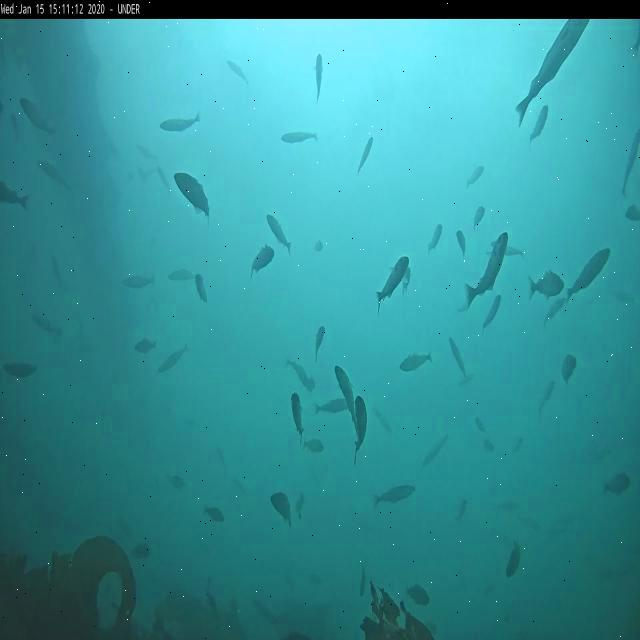fish: (514, 20, 590, 130), (463, 230, 508, 310), (567, 248, 610, 302), (174, 172, 212, 224), (376, 254, 409, 312), (334, 364, 357, 427), (526, 268, 564, 304), (621, 124, 639, 198), (21, 96, 55, 135), (374, 481, 416, 509), (266, 210, 291, 256), (36, 160, 70, 190), (423, 433, 450, 470), (158, 112, 202, 134), (528, 104, 550, 148), (158, 344, 188, 376), (354, 394, 368, 462), (449, 334, 469, 381), (269, 489, 293, 527), (284, 356, 311, 389), (372, 402, 396, 437), (249, 244, 274, 277), (400, 352, 433, 376), (538, 379, 556, 422), (291, 392, 306, 442), (357, 134, 374, 174), (120, 270, 154, 290), (404, 583, 430, 609), (482, 296, 500, 332), (602, 474, 630, 496), (505, 539, 520, 579), (227, 60, 250, 86), (466, 165, 484, 192), (194, 274, 210, 304), (562, 354, 578, 384), (281, 130, 319, 142), (204, 504, 226, 524), (428, 222, 442, 253), (301, 438, 324, 456), (314, 52, 322, 102), (136, 337, 159, 354), (455, 228, 468, 256), (130, 540, 148, 559), (315, 324, 324, 362), (169, 268, 194, 281), (472, 203, 486, 226), (625, 202, 639, 223), (314, 238, 323, 251)
